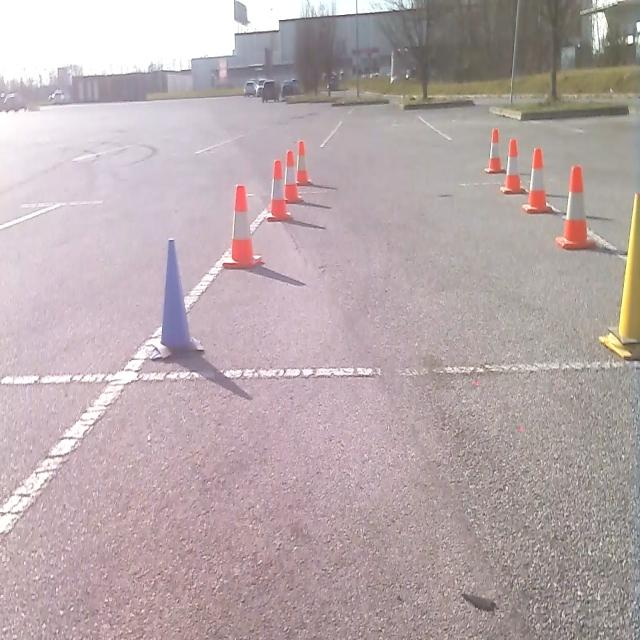blue_cone: (148, 235, 205, 361)
orange_cone: (555, 163, 595, 250), (222, 183, 262, 269), (522, 146, 552, 213), (266, 158, 290, 222), (500, 136, 526, 195), (283, 148, 302, 203), (484, 126, 504, 174), (296, 139, 312, 185)
yellow_cone: (598, 190, 640, 360)
